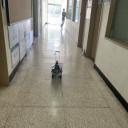cart: (52, 63, 62, 79)
